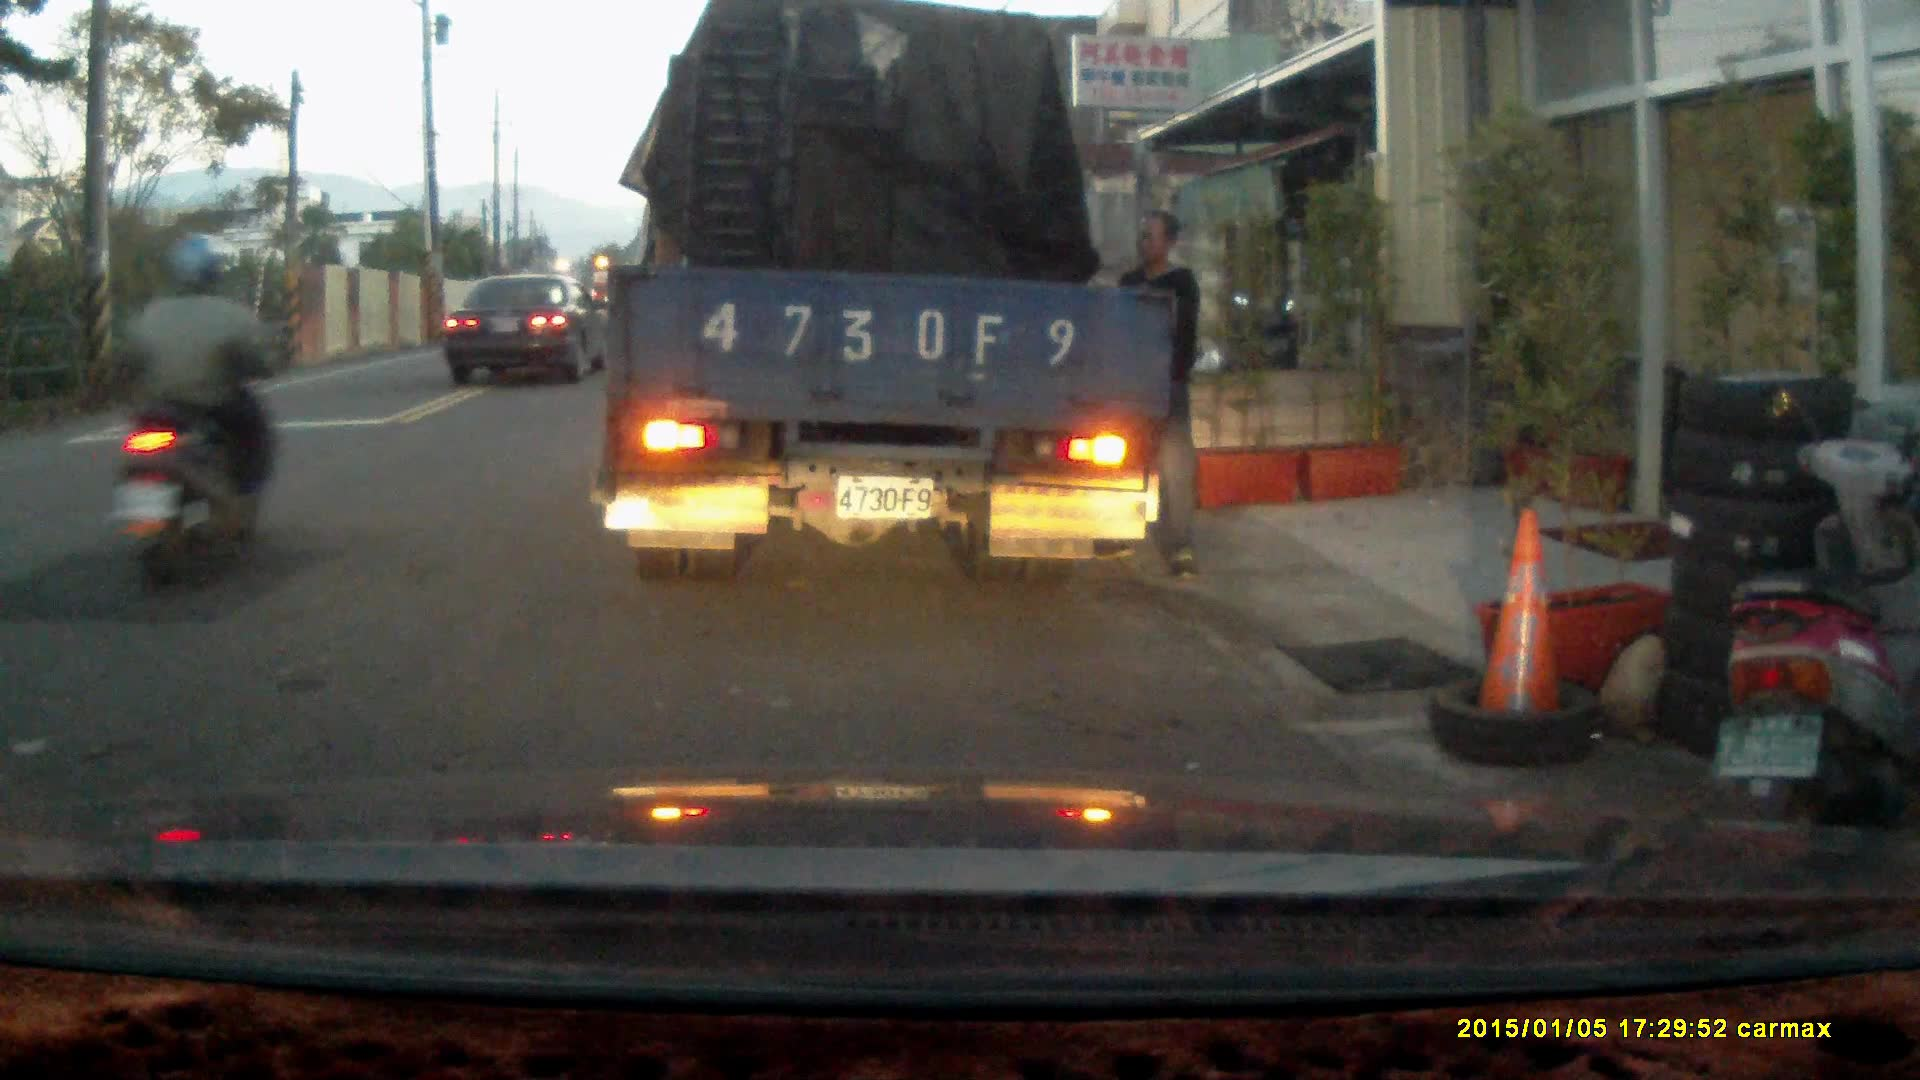pedestrian: (1079, 205, 1208, 580)
rider: (107, 232, 278, 602)
vehicle: (604, 23, 1177, 572), (447, 271, 608, 387)
